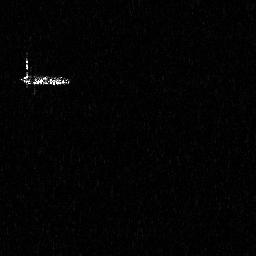ship: (19, 56, 72, 87)
